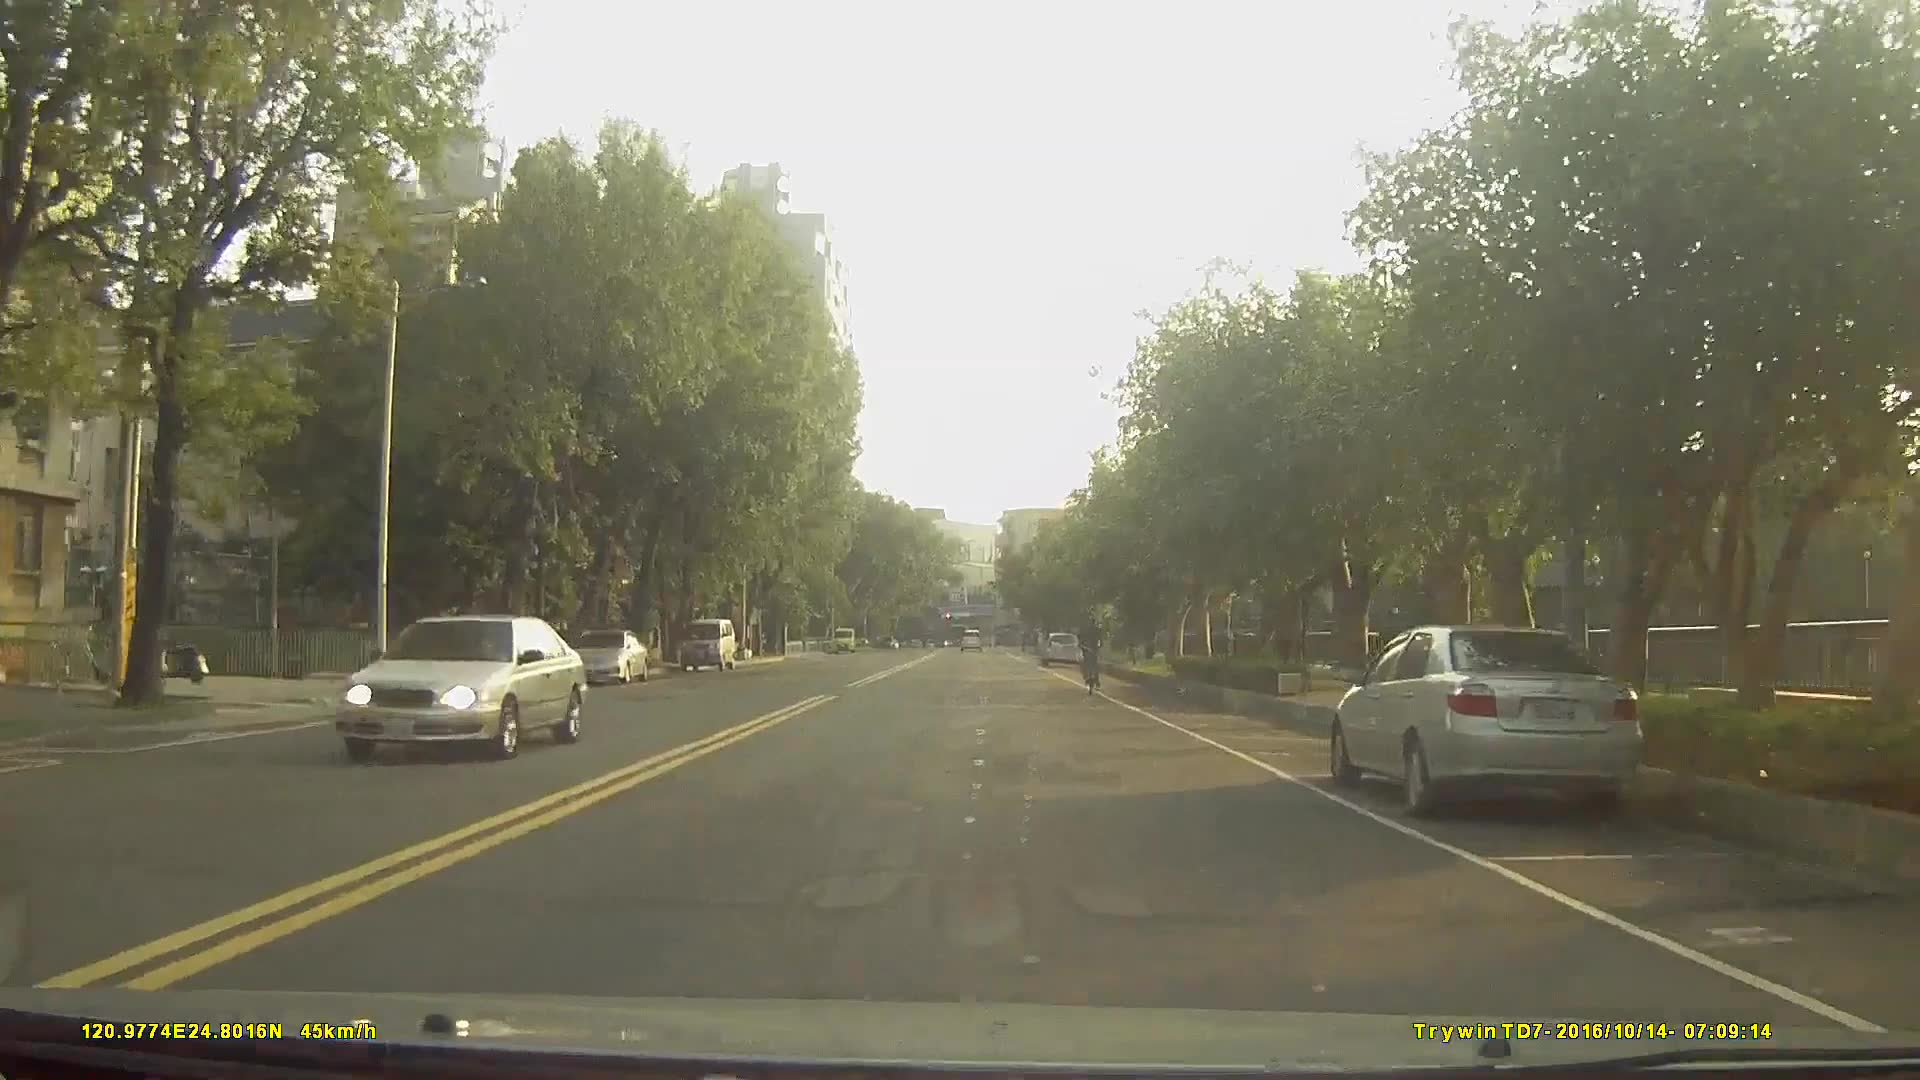rider: (1080, 617, 1108, 701)
vehicle: (1325, 623, 1643, 823), (326, 614, 588, 763), (570, 629, 648, 688), (679, 618, 738, 671), (1040, 629, 1083, 668), (959, 625, 984, 651)
